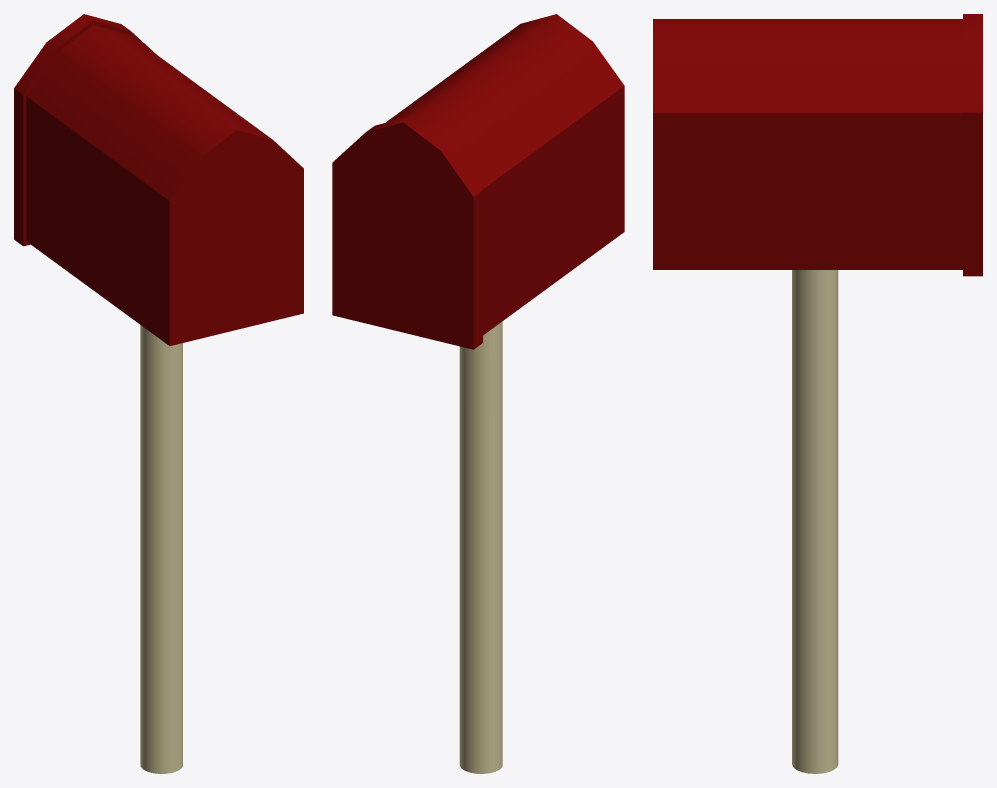
The model's file is post office box.fbx.
3 renders of one model, left to right at view 1: azimuth 30°, elevation 25°; view 2: azimuth 150°, elevation 25°; view 3: azimuth 270°, elevation 25°, orthographic. The views are drawn at different scales.
Visible parts, largest first — view 1: group59_pCube181; view 2: group59_pCube181; view 3: group59_pCube181.
Boxes of the visible parts, x1,y1,x2,y2 form: group59_pCube181: (14,14,303,773); group59_pCube181: (332,14,624,773); group59_pCube181: (653,14,982,773).
Size of the model in its own units: 0.9667 by 4.58 by 1.82.
